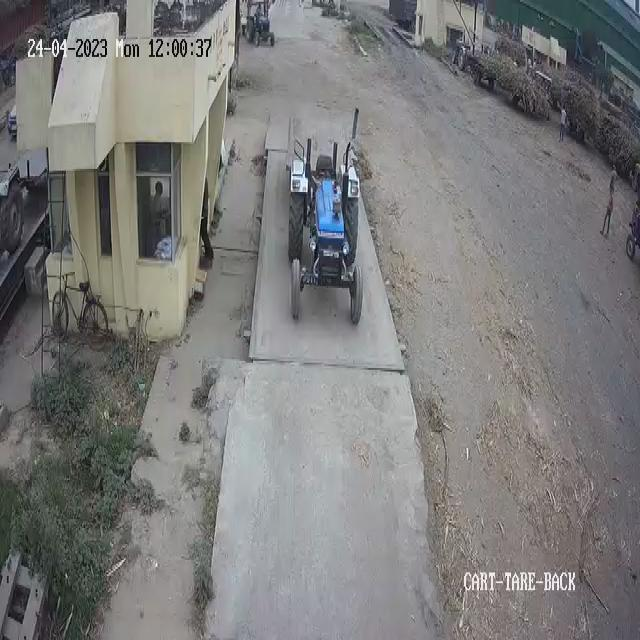Tratores - v5 YOLO V8L 2024-11-13: (290, 114, 366, 338), (244, 2, 280, 51)
